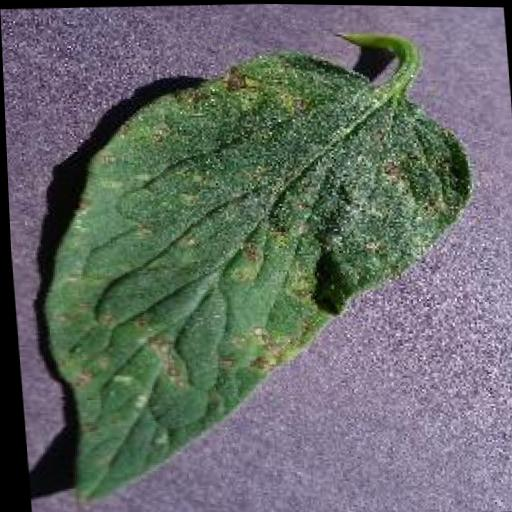Septoria: (24, 45, 492, 511)
